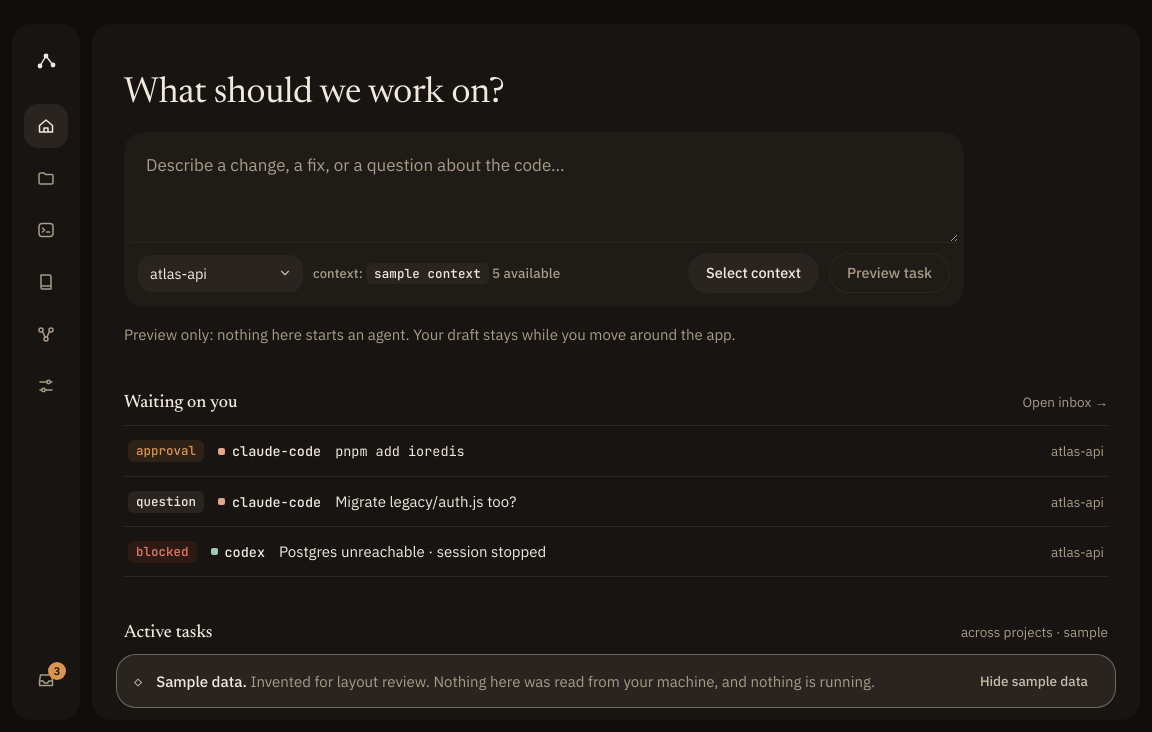
Test: Context sources and provenance › shows three distinct sample sources and never claims a real vault
This screenshot has width=1152, height=732.
Click the link named "Context" at (46, 282), box [36, 272, 56, 292]
(page scrolled)
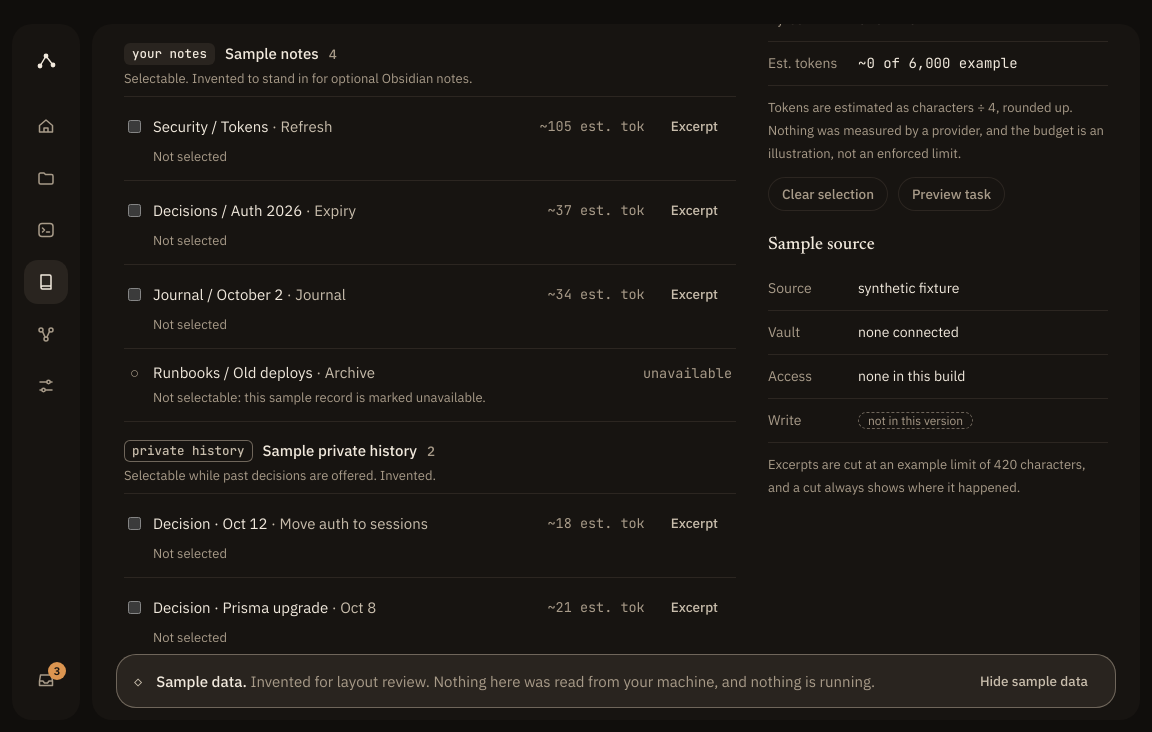
expect the heading "your notes Sample notes 4" is shown: met, box [124, 43, 337, 65]
expect the heading "private history Sample private history 2" is shown: met, box [124, 440, 435, 462]
expect the text "none connected" is shown: met, box [858, 311, 1108, 355]
